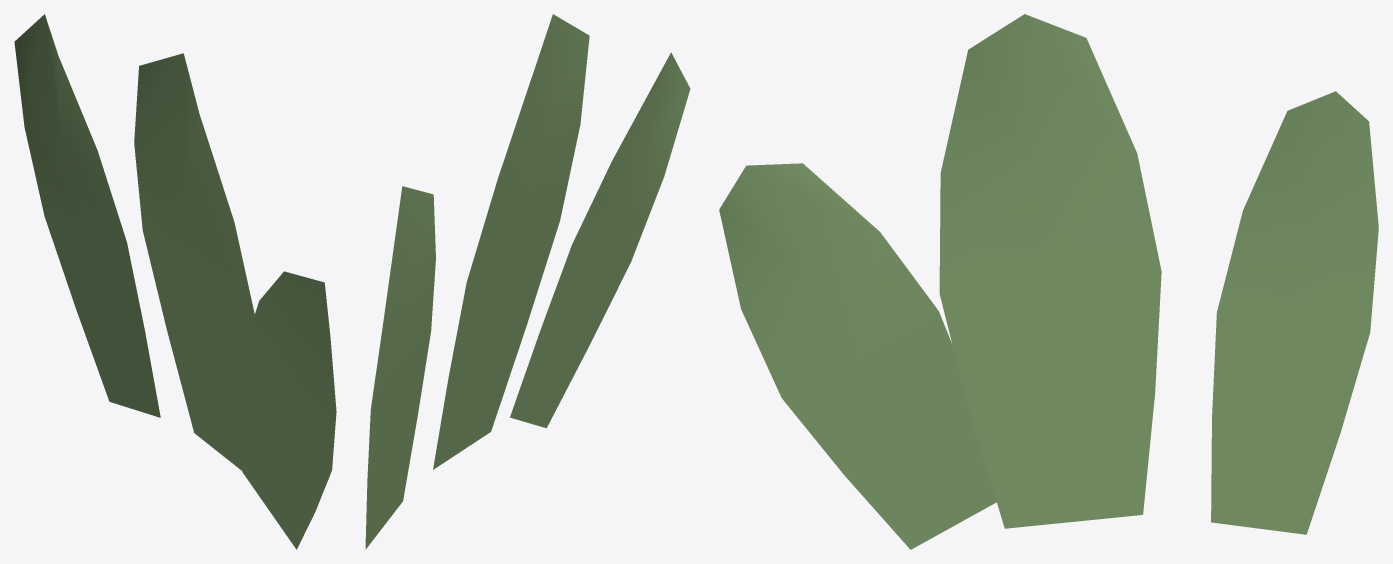
Rendered from Pasto_grp1.fbx.
3 renders of one model, left to right at view 1: azimuth 30°, elevation 25°; view 2: azimuth 150°, elevation 25°; view 3: azimuth 270°, elevation 25°, orthographic. The views are drawn at different scales.
Parts seen in each view (by area): view 1: pPlane70, pPlane72, pPlane71; view 2: pPlane70, pPlane71, pPlane72; view 3: pPlane70, pPlane71, pPlane72.
Part boxes in pixels (x1,y1,x2,y2): pPlane70: [134, 53, 254, 470]; pPlane72: [14, 14, 160, 417]; pPlane71: [242, 271, 336, 549]; pPlane70: [433, 14, 589, 469]; pPlane71: [510, 52, 690, 428]; pPlane72: [365, 186, 435, 549]; pPlane70: [939, 14, 1161, 528]; pPlane71: [719, 163, 996, 549]; pPlane72: [1211, 91, 1378, 534].
Size of the model in its own units: 0.1754 by 0.9048 by 1.07.
